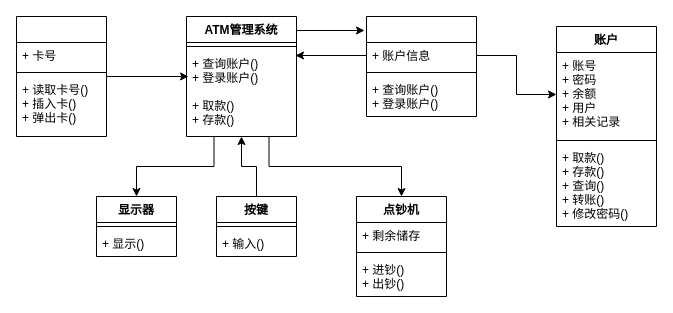
This 673x313 diagram has some shape labels left out. Here are the shapes that lost their labels. From the top down, the box of each, then its label:
(16, 16, 106, 136): 读卡器
(366, 16, 476, 116): 账户管理系统
